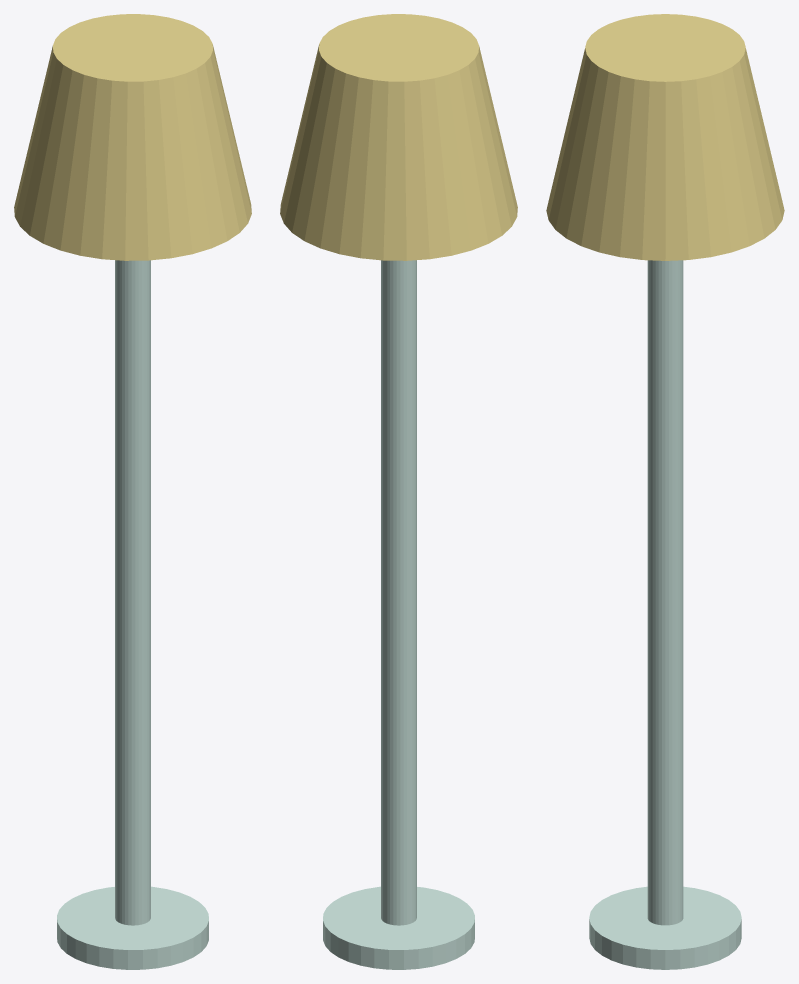
3 renders of one model, left to right at view 1: azimuth 30°, elevation 25°; view 2: azimuth 150°, elevation 25°; view 3: azimuth 270°, elevation 25°, orthographic.
Parts seen in each view (by area): view 1: Cylinder; view 2: Cylinder; view 3: Cylinder.
Boxes of the visible parts, x1,y1,x2,y2 form: Cylinder: (14,14,251,969); Cylinder: (280,14,517,969); Cylinder: (546,14,784,969).
Bounding box in the file's own units: 312 × 1287 × 312.
